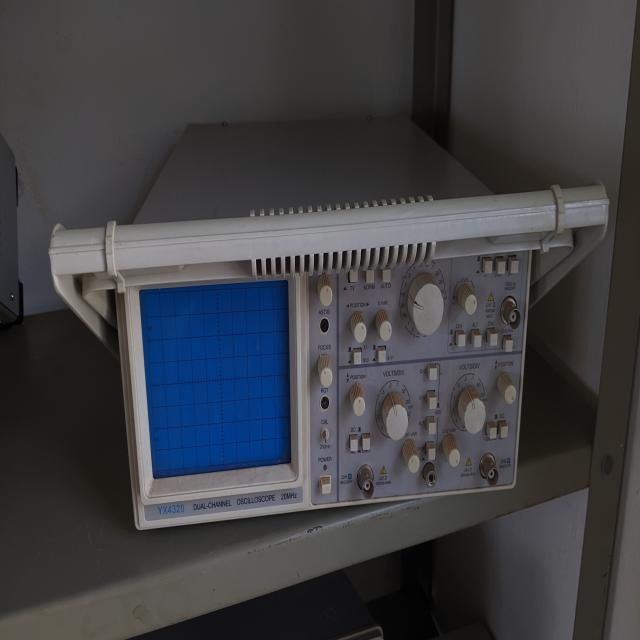Cathode Ray Oscilloscope: (39, 164, 606, 540)
